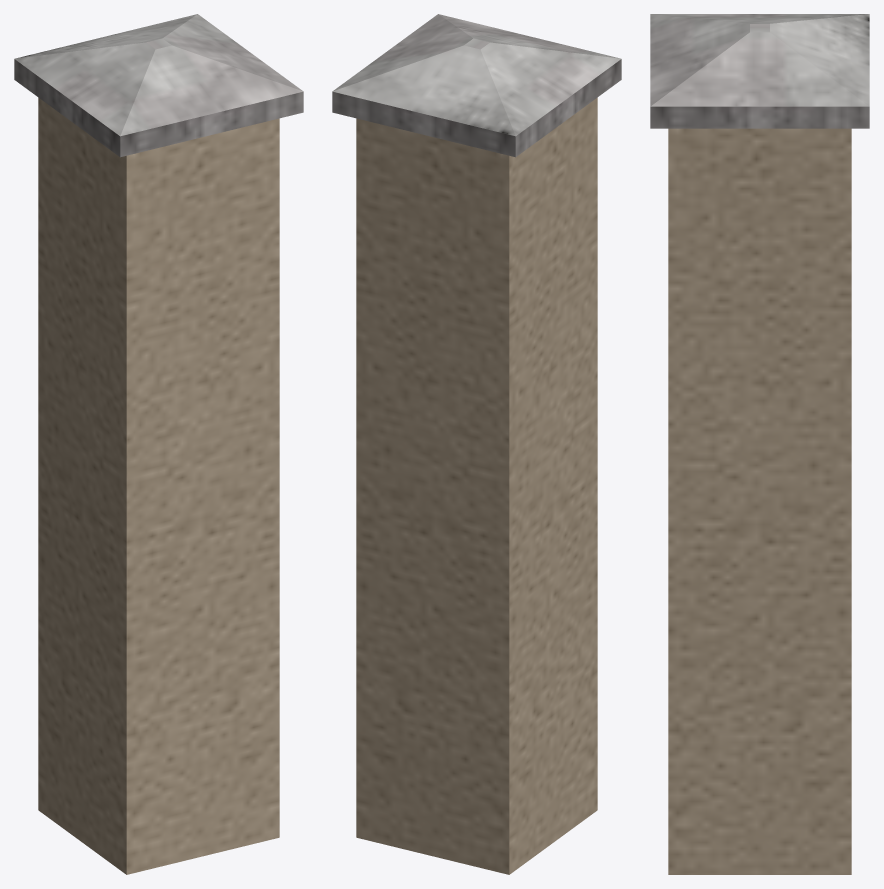
File: Urban_PlasterWallColumn_Model.fbx
The picture shows the model from 3 angles, left to right: view 1: azimuth 30°, elevation 25°; view 2: azimuth 150°, elevation 25°; view 3: azimuth 270°, elevation 25°; orthographic projection. The views are drawn at different scales.
Visible parts, largest first — view 1: Urban_PlasterWallColumn_Mesh; view 2: Urban_PlasterWallColumn_Mesh; view 3: Urban_PlasterWallColumn_Mesh.
Boxes of the visible parts, box(x1,y1,x2,y2) form: Urban_PlasterWallColumn_Mesh: box(14, 14, 303, 874); Urban_PlasterWallColumn_Mesh: box(332, 14, 621, 874); Urban_PlasterWallColumn_Mesh: box(650, 14, 869, 874).
Size of the model in its own units: 0.5279 by 2.14 by 0.5279.
